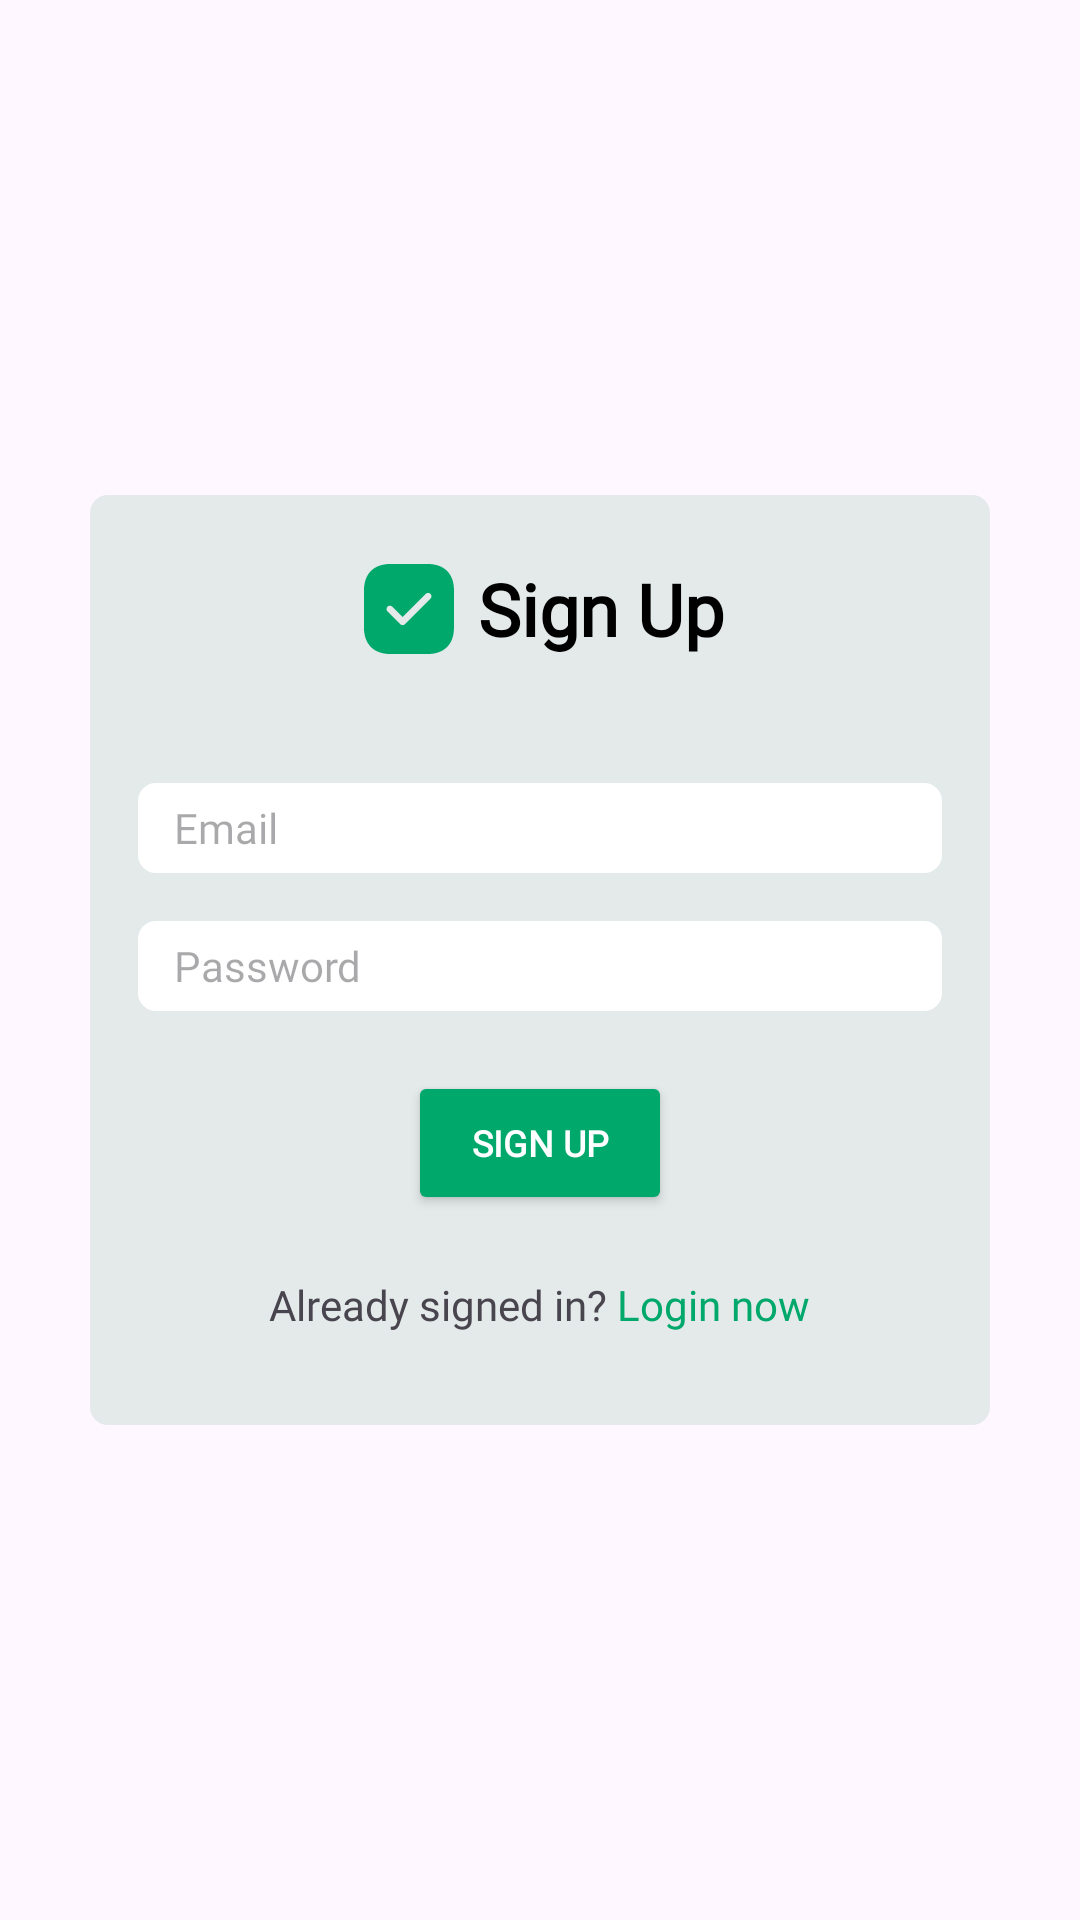

Icons on this 1080*1920 Android screen, each with its box as {"left": x1, "top": y1, "right": x2, "bottom": y2}:
tick square: {"left": 364, "top": 564, "right": 454, "bottom": 654}
